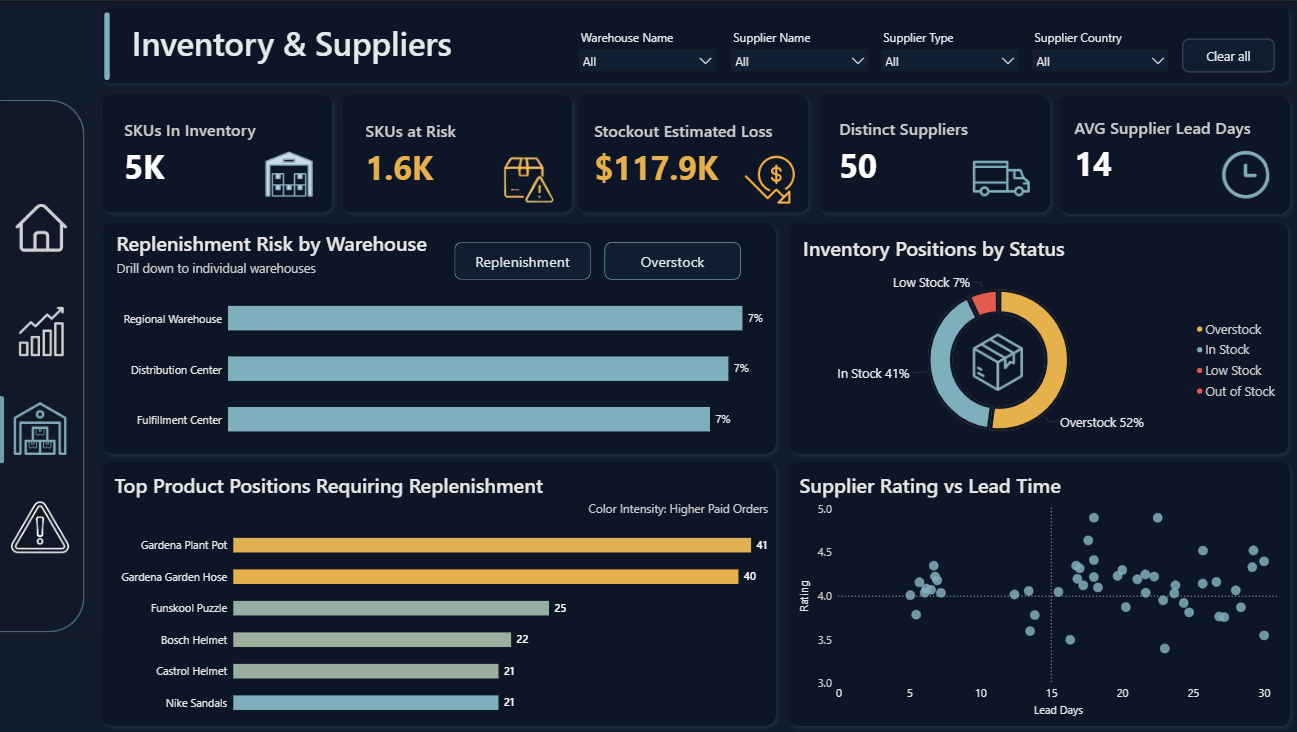

Layout of this report page (visuals, bound fields, positions):
{"tool":"powerbi","page":{"name":"Inventory & Suppliers","canvas":[1920,1080],"ordinal":2},"visuals":[{"type":"shape","box":[143.6,0,1770.6,130.7],"z":0},{"type":"cardVisual","fields":{"Data":["_Measures.Total Estimated Loss"]},"box":[850.3,137.9,347.9,174.8],"z":0,"group":"g1"},{"type":"shape","title":"Total Sales","box":[143.6,127,360.7,195.1],"z":1000},{"type":"clusteredBarChart","title":"Replenishment Risk by Warehouse","fields":{"Category":["dim_warehouses.warehouse_type","dim_warehouses.city"],"Y":["_Measures.Out of Stock %"]},"box":[173.1,336.9,955.6,331.4],"z":1000,"group":"g1"},{"type":"shape","box":[496.9,127,360.7,195.1],"z":2000},{"type":"clusteredBarChart","title":"Top Product Positions Requiring Replenishment","fields":{"Category":["dim_products.product_name"],"Y":["_Measures.at Risk Inventory Positions"]},"box":[173.1,692.3,962.9,371.9],"z":2000,"group":"g1"},{"type":"shape","box":[844.8,127,360.7,195.1],"z":3000},{"type":"shape","box":[1200,127,360.7,195.1],"z":4000},{"type":"shape","box":[1553.4,128.8,360.7,195.1],"z":5000},{"type":"cardVisual","fields":{"Data":["_Measures.Total SKUs"]},"box":[157.8,136.9,317.5,174.9],"z":6000},{"type":"cardVisual","fields":{"Data":["_Measures.Gross Profit"]},"box":[537.9,356.7,319.4,164.4],"z":7000},{"type":"cardVisual","fields":{"Data":["_Measures.AVG Supplier Lead Time"]},"box":[1557.3,132.7,326.2,175.1],"z":8000},{"type":"shape","box":[145.5,316.8,1012.7,360.9],"z":9000},{"type":"shape","box":[143.6,668.4,1014.5,410],"z":10000},{"type":"textbox","box":[193.5,24,656.1,101.4],"z":11000},{"type":"shape","box":[1156.3,316.7,756.7,360.9],"z":12000},{"type":"donutChart","title":"Inventory Positions by Status","fields":{"Category":["fact_inventory.Inventory_Status"],"Y":["CountNonNull(fact_inventory.Inventory_Status)"]},"box":[1182.1,344.3,714.4,324.1],"z":13000},{"type":"shape","box":[1154.4,668.4,760.4,410.6],"z":14000},{"type":"scatterChart","title":"Supplier Rating vs  Lead Days","fields":{"Category":["dim_suppliers.supplier_name"],"X":["_Measures.AVG Supplier Lead Time"],"Y":["_Measures.AVG Supplier Rating"]},"box":[1182.1,692.3,714.4,362.7],"z":15000},{"type":"slicer","title":"Gender","fields":{"Values":["dim_suppliers.supplier_type"]},"box":[1292.1,36.8,220.9,71.8],"z":16000},{"type":"slicer","fields":{"Values":["dim_suppliers.supplier_name"]},"box":[1071.3,36.8,220.9,71.8],"z":17000},{"type":"slicer","title":"Date","fields":{"Values":["dim_warehouses.city"]},"box":[846.7,36.8,220.9,71.8],"z":18000},{"type":"cardVisual","fields":{"Data":["_Measures.SKUs with Replenishment Risk"]},"box":[513.8,138.1,289.1,174.9],"z":19000},{"type":"cardVisual","fields":{"Data":["_Measures.Total Suppliers"]},"box":[1212.5,134.8,292.8,176.8],"z":20000},{"type":"image","box":[1786.4,212,106.7,84.7],"z":21000},{"type":"image","box":[382.8,219,93.9,71.8],"z":22000},{"type":"image","box":[712.3,213.5,136.2,114.1],"z":23000},{"type":"image","box":[1421.4,489.8,104.9,84.7],"z":24000},{"type":"slicer","title":"Date","fields":{"Values":["dim_suppliers.country"]},"box":[1514.7,36.8,219,69.9],"z":25000},{"type":"image","box":[1427.5,219.4,104.9,84.7],"z":26000},{"type":"image","box":[1080.4,226.4,116,73.6],"z":27000},{"type":"shape","box":[0,145.7,128.9,784.6],"z":28000},{"type":"image","box":[12.9,449.7,105,75.6],"z":29000},{"type":"image","box":[11.1,591.6,105,77.4],"z":30000},{"type":"shape","box":[0,147.4,16.6,780],"z":31000},{"type":"group","id":"g1","title":"Group 2","box":[173.1,137.9,1025,926.3],"z":33000},{"type":"actionButton","box":[674.6,356,200.6,55.1],"z":34000},{"type":"actionButton","box":[894.9,356,200.6,55.1],"z":35000},{"type":"shape","box":[0,581.6,12.9,99.4],"z":36000},{"type":"shape","box":[138,16.6,47.9,100],"z":37000},{"type":"actionButton","box":[1745.7,55.9,136.8,50.1],"z":38000},{"type":"image","box":[12.9,296.7,105,75.6],"z":39000},{"type":"image","box":[16.8,732.3,93.4,85],"z":40000}]}

Visuals, with their boxes in screenshot pixels (x1, y1, x2, y2), scaled from the page's 1920x1080 canvas onto the 1297x732 screenshot:
shape: 97 0 1293 89
cardVisual - _Measures.Total Estimated Loss: 574 93 809 212
"Total Sales" shape: 97 86 341 218
"Replenishment Risk by Warehouse" clusteredBarChart: 117 228 762 453
shape: 336 86 579 218
"Top Product Positions Requiring Replenishment" clusteredBarChart: 117 469 767 721
shape: 571 86 814 218
shape: 811 86 1054 218
shape: 1049 87 1293 220
cardVisual - _Measures.Total SKUs: 107 93 321 211
cardVisual - _Measures.Gross Profit: 363 242 579 353
cardVisual - _Measures.AVG Supplier Lead Time: 1052 90 1272 209
shape: 98 215 782 459
shape: 97 453 782 731
textbox: 131 16 574 85
shape: 781 215 1292 459
"Inventory Positions by Status" donutChart: 799 233 1281 453
shape: 780 453 1293 731
"Supplier Rating vs  Lead Days" scatterChart: 799 469 1281 715
"Gender" slicer: 873 25 1022 74
slicer - dim_suppliers.supplier_name: 724 25 873 74
"Date" slicer: 572 25 721 74
cardVisual - _Measures.SKUs with Replenishment Risk: 347 94 542 212
cardVisual - _Measures.Total Suppliers: 819 91 1017 211
image: 1207 144 1279 201
image: 259 148 322 197
image: 481 145 573 222
image: 960 332 1031 389
"Date" slicer: 1023 25 1171 72
image: 964 149 1035 206
image: 730 153 808 203
shape: 0 99 87 631
image: 9 305 80 356
image: 7 401 78 453
shape: 0 100 11 629
"Group 2" group: 117 93 809 721
actionButton: 456 241 591 279
actionButton: 605 241 740 279
shape: 0 394 9 462
shape: 93 11 126 79
actionButton: 1179 38 1272 72
image: 9 201 80 252
image: 11 496 74 554
